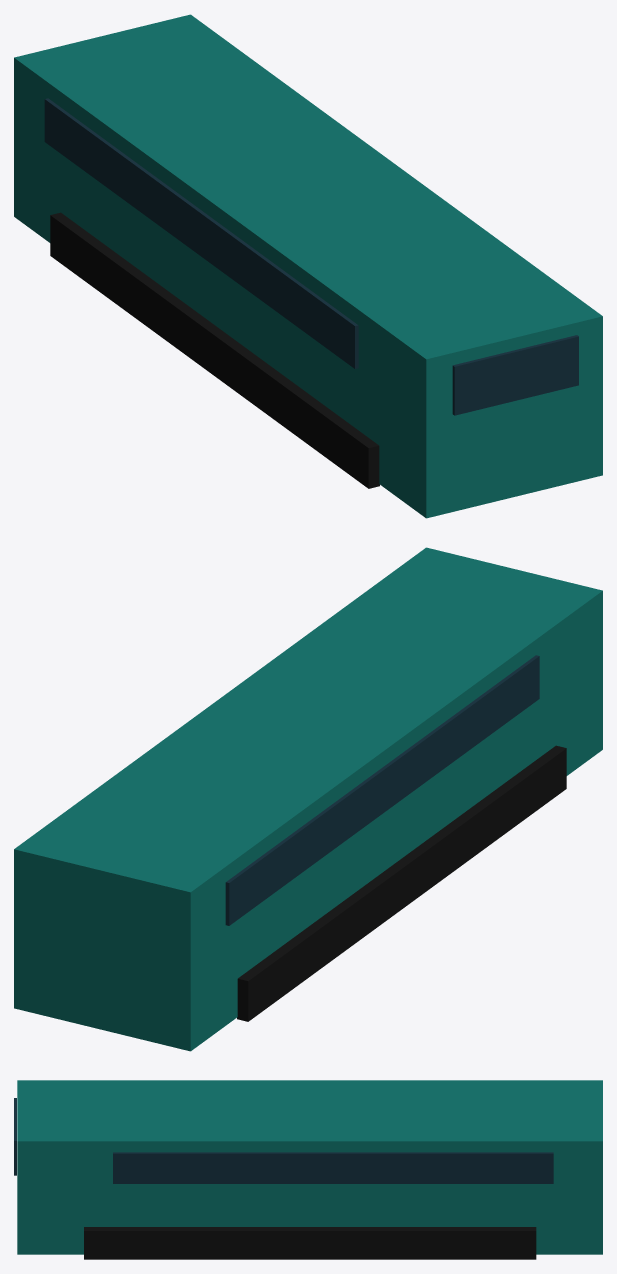
The model's file is bus_far.glb.
3 views of the same model, one above another, from view 1: azimuth 30°, elevation 25°; view 2: azimuth 150°, elevation 25°; view 3: azimuth 270°, elevation 25° (orthographic). The views are drawn at different scales.
Parts seen in each view (by area): view 1: bus_far_main_body, bus_far_left_wheel_band, bus_far_side_window_band_left, bus_far_front_windshield; view 2: bus_far_main_body, bus_far_left_wheel_band, bus_far_side_window_band_left; view 3: bus_far_main_body, bus_far_right_wheel_band, bus_far_side_window_band_right.
Part boxes in pixels (box(x1,y1,x2,y2)): bus_far_main_body: box(14, 14, 602, 518); bus_far_left_wheel_band: box(50, 212, 379, 488); bus_far_side_window_band_left: box(44, 98, 358, 368); bus_far_front_windshield: box(452, 335, 578, 415); bus_far_main_body: box(14, 547, 602, 1051); bus_far_left_wheel_band: box(237, 745, 566, 1021); bus_far_side_window_band_left: box(225, 655, 539, 925); bus_far_main_body: box(17, 1080, 602, 1254); bus_far_right_wheel_band: box(84, 1227, 536, 1259); bus_far_side_window_band_right: box(113, 1152, 553, 1183).
Size of the model in its own units: 2.8 by 2.18 by 10.16.
